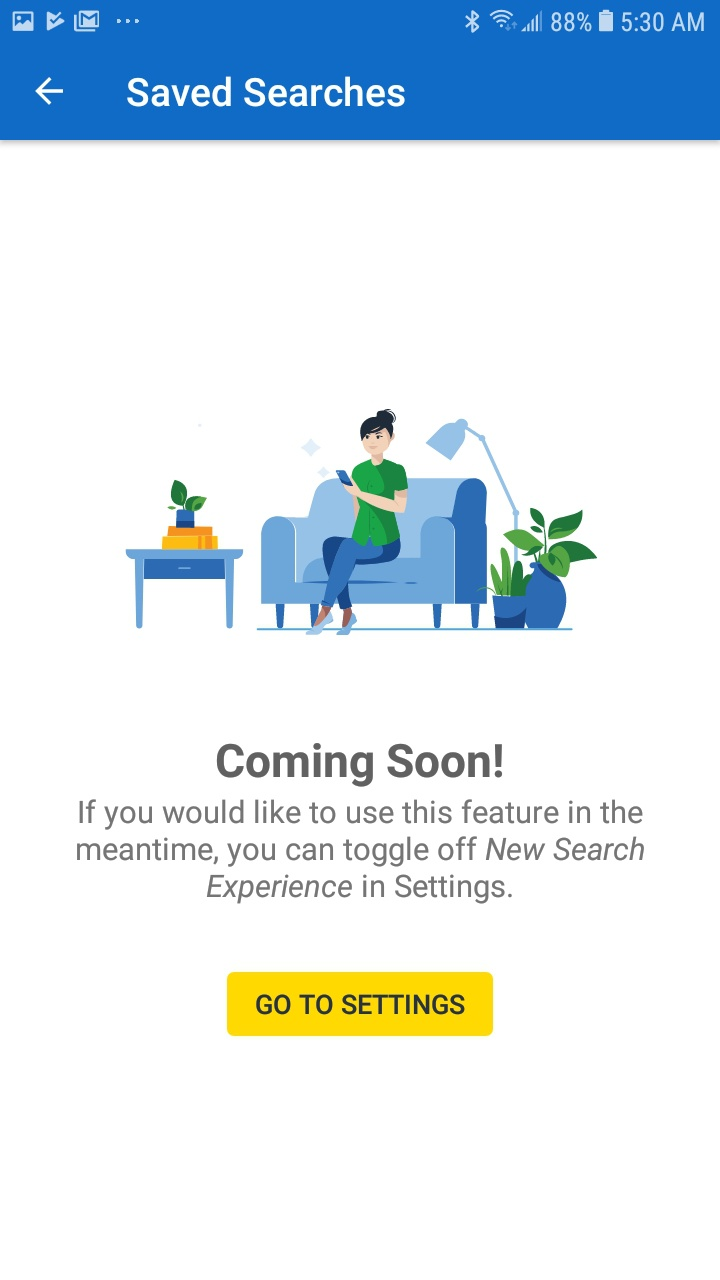Icon: (35, 77, 65, 107)
Image: (126, 408, 598, 637)
Text: (77, 799, 645, 905), (217, 743, 503, 788), (127, 76, 406, 109)
TextButton: (227, 972, 494, 1037)
UpperTaskBar: (1, 1, 720, 36)
